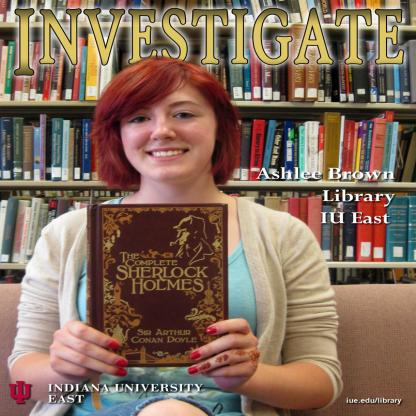book: (0, 0, 415, 287), (0, 20, 416, 103), (86, 201, 228, 367), (219, 186, 416, 261), (226, 108, 413, 180), (0, 188, 132, 266), (0, 0, 416, 20), (0, 112, 102, 184)
